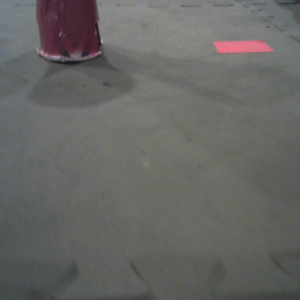middle: (34, 1, 107, 65)
